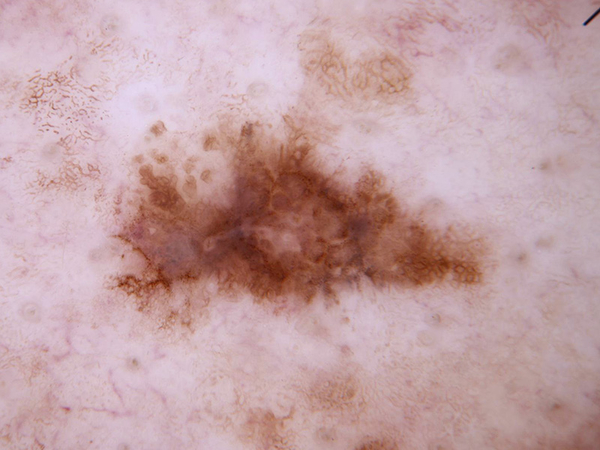Detected Lesion: (108, 111, 495, 315)
